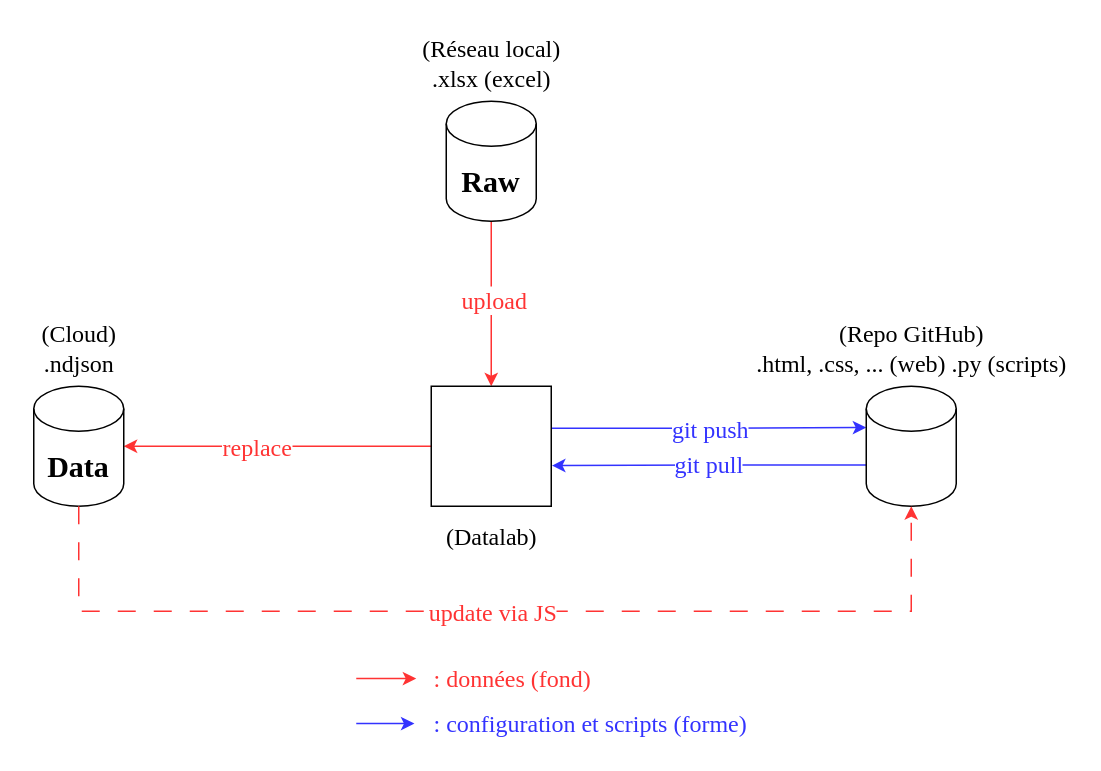
The diagram is 1101 pixels wide and 771 high, and some of its shapes have lost their labels. The shapes that lost their labels are listed below. From the top down, each one's box as (x1, y1, x2, y2) in pixels, then its label:
(430, 385, 551, 506): IDE
(865, 385, 956, 506): Web
